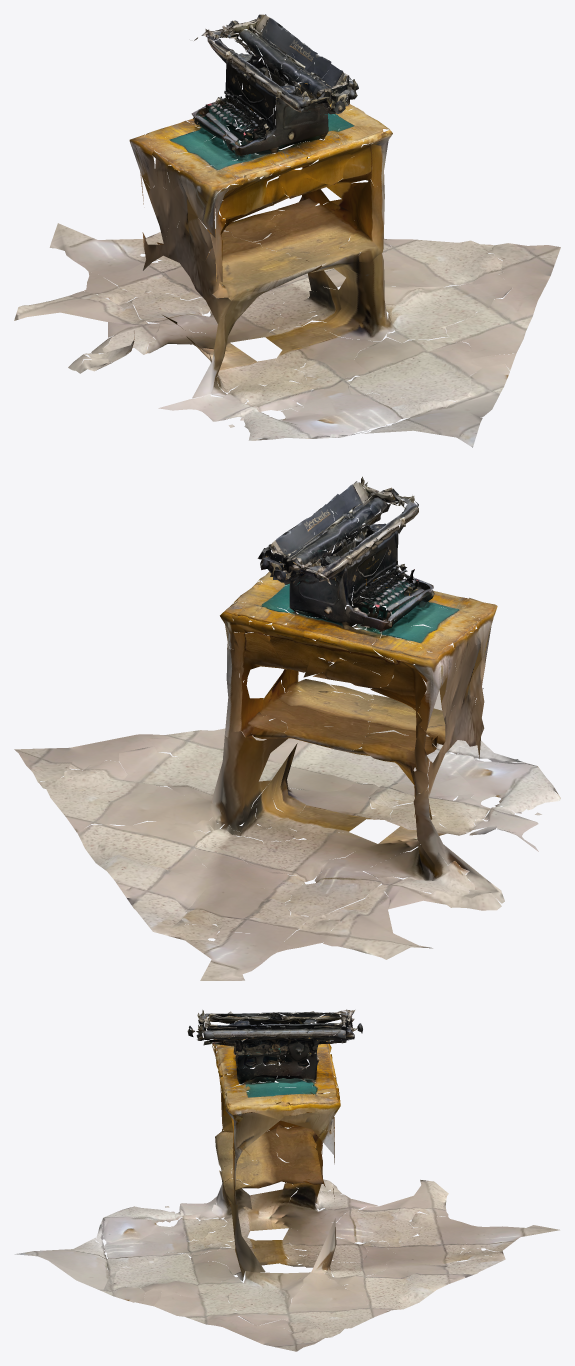
Rendered from mercedes.glb.
3 renders of one model, top to bottom at view 1: azimuth 30°, elevation 25°; view 2: azimuth 150°, elevation 25°; view 3: azimuth 270°, elevation 25°, orthographic. The views are drawn at different scales.
Parts seen in each view (by area): view 1: Mesh_0; view 2: Mesh_0; view 3: Mesh_0.
Boxes of the visible parts, box(x1,y1,x2,y2) form: Mesh_0: box(14, 14, 560, 447); Mesh_0: box(14, 476, 560, 980); Mesh_0: box(15, 1009, 559, 1351).
Size of the model in its own units: 1.58 by 0.9527 by 1.96.
Materials: 1 (1 with a texture image).
